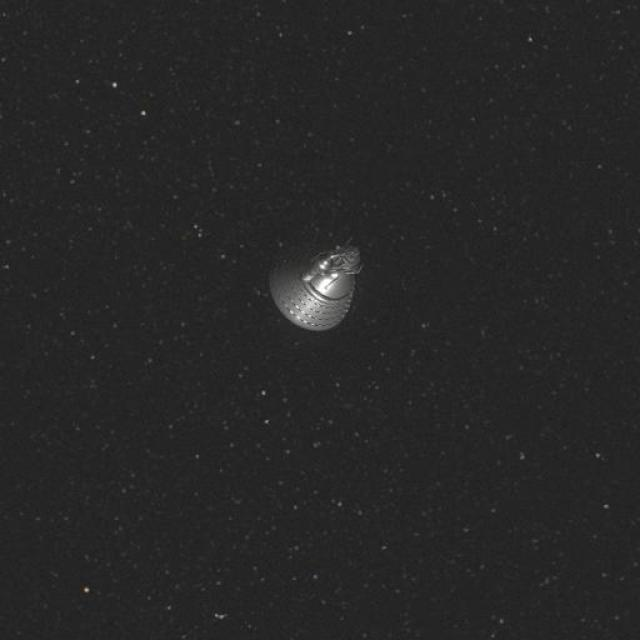debris: (263, 226, 376, 344)
